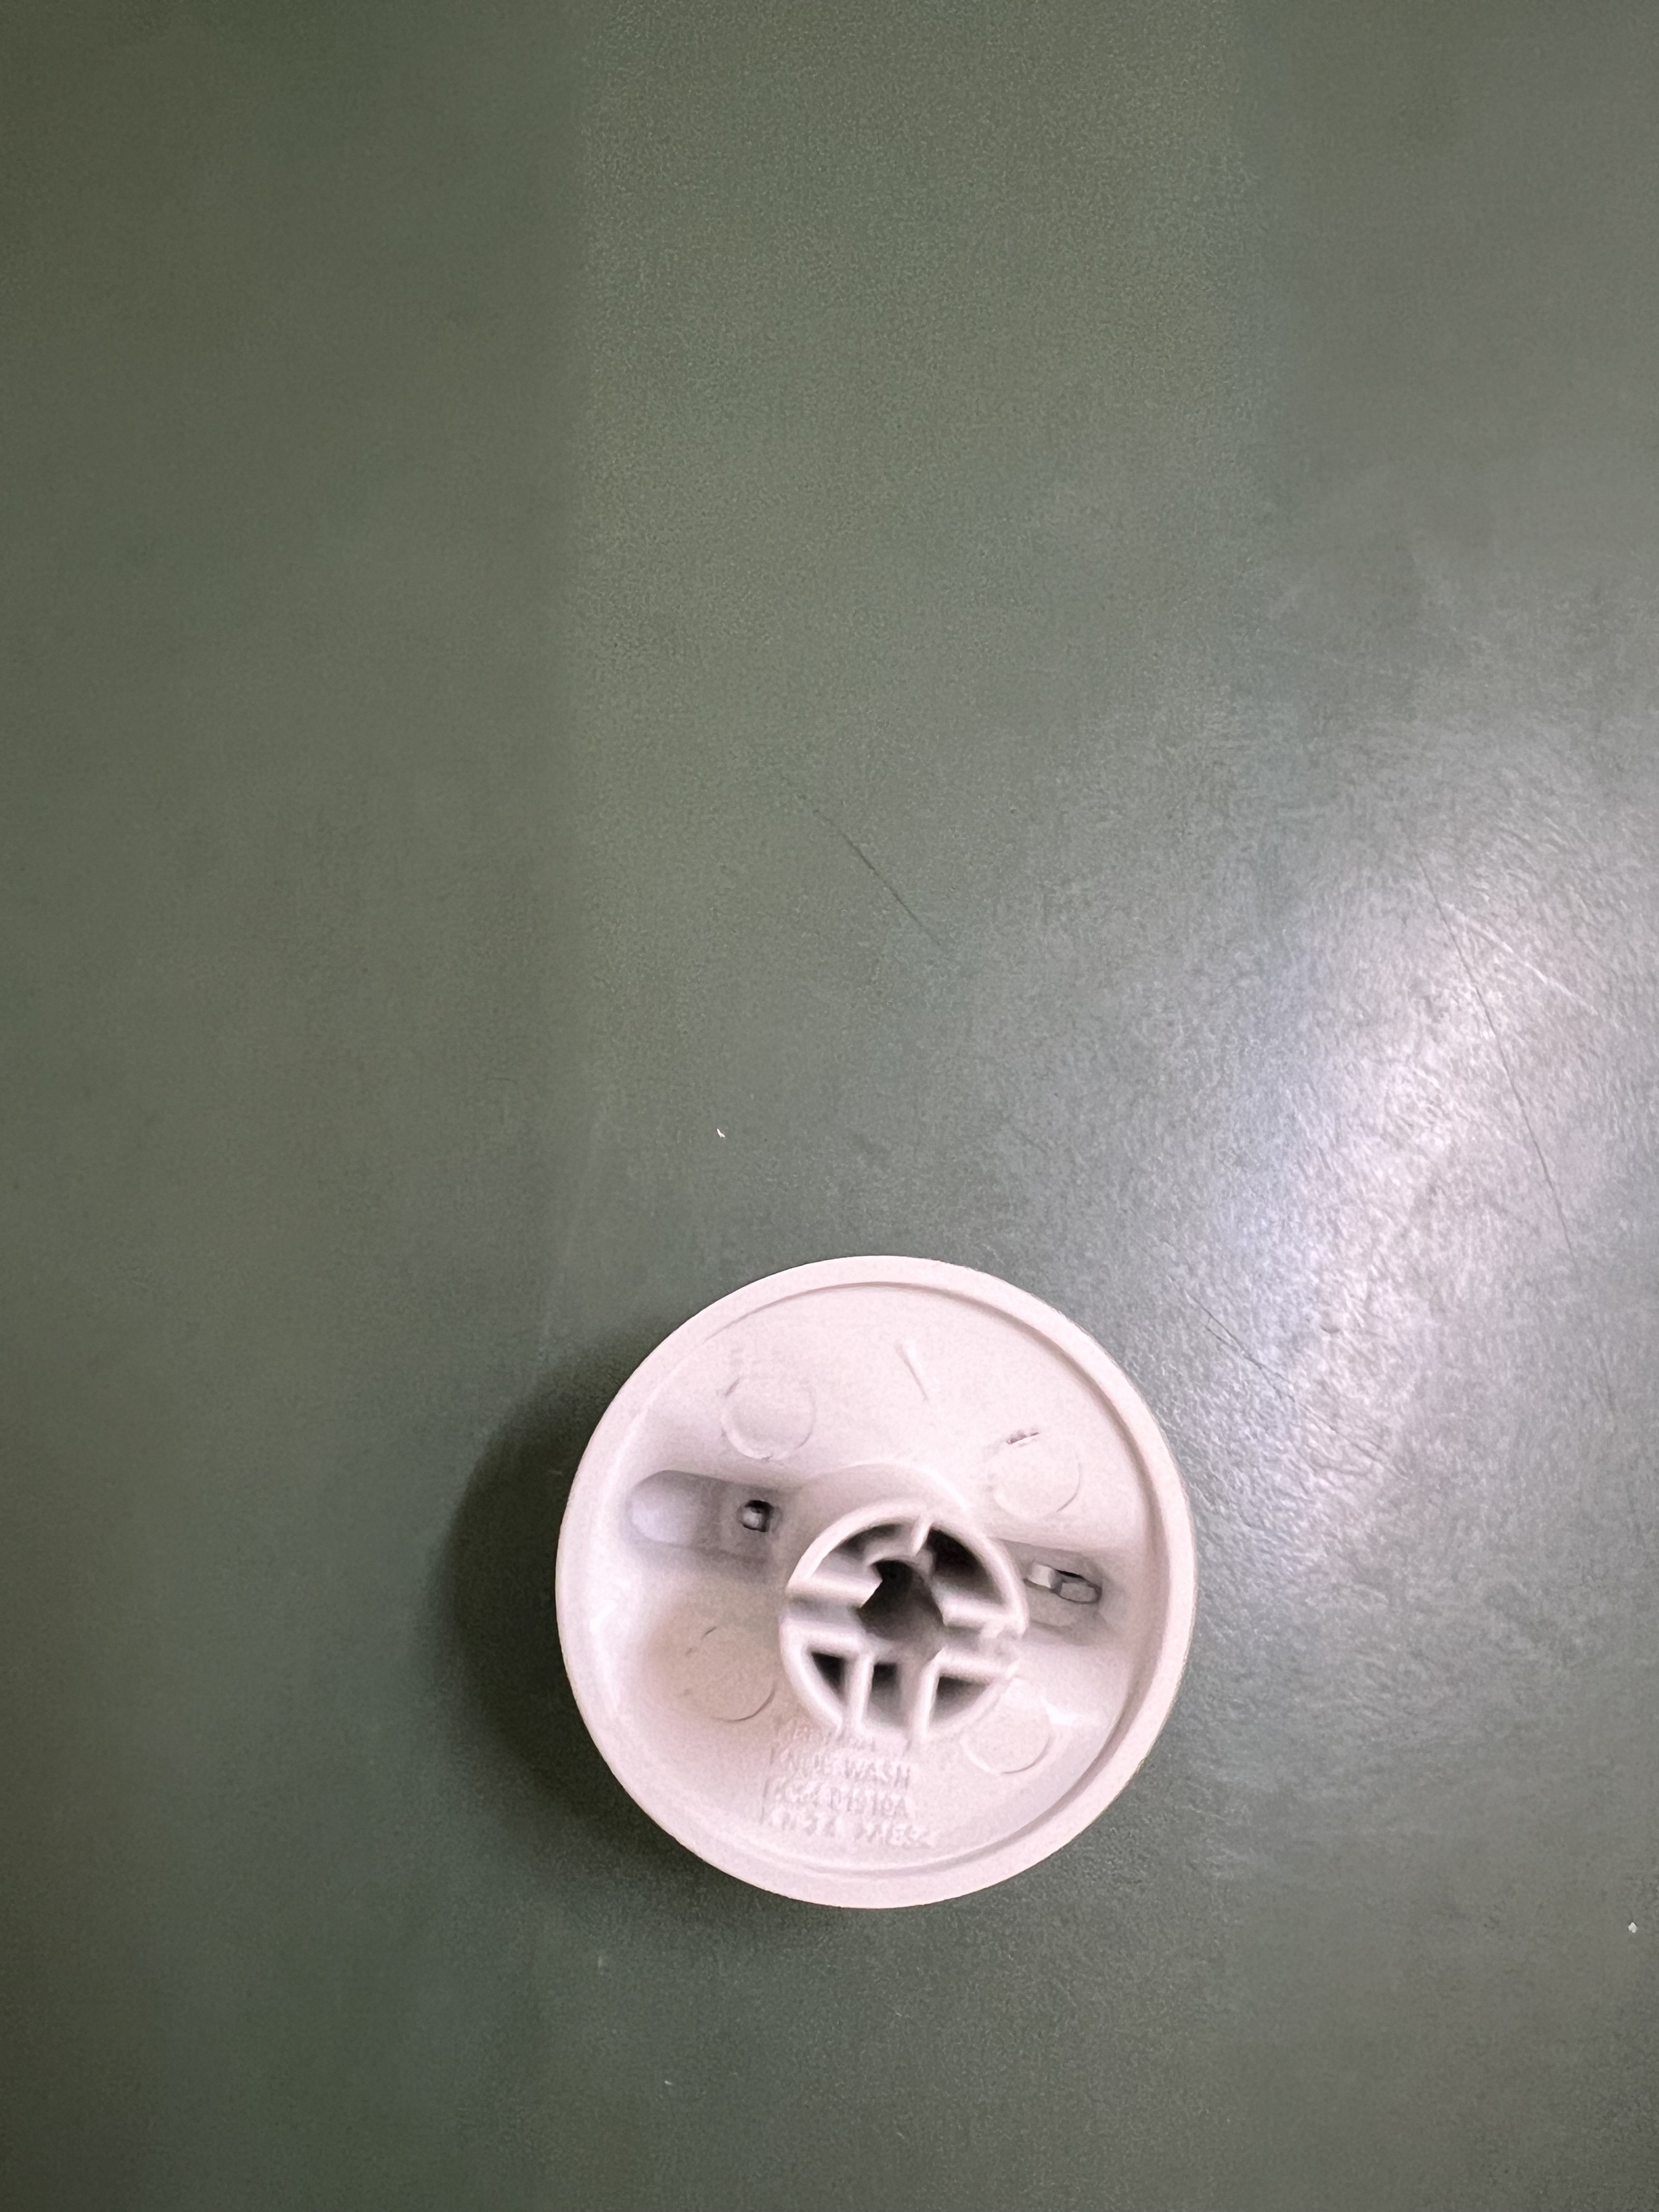regulator: (518, 1247, 1244, 1947)
